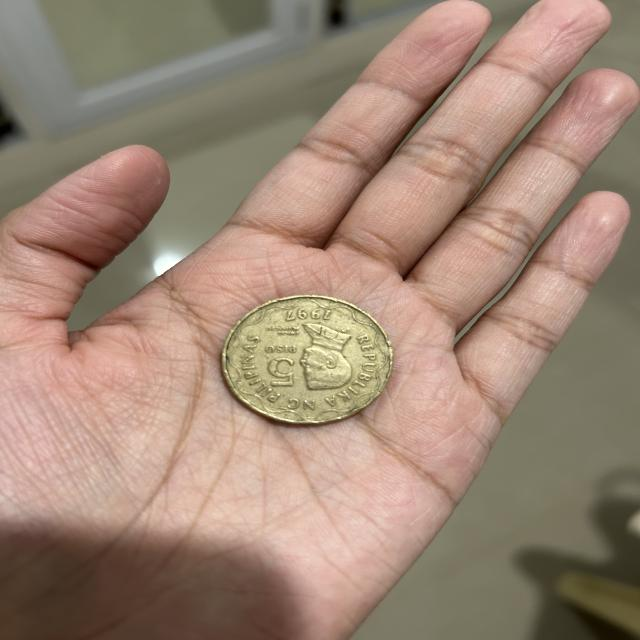5_Old_Front: (254, 342, 302, 395)
